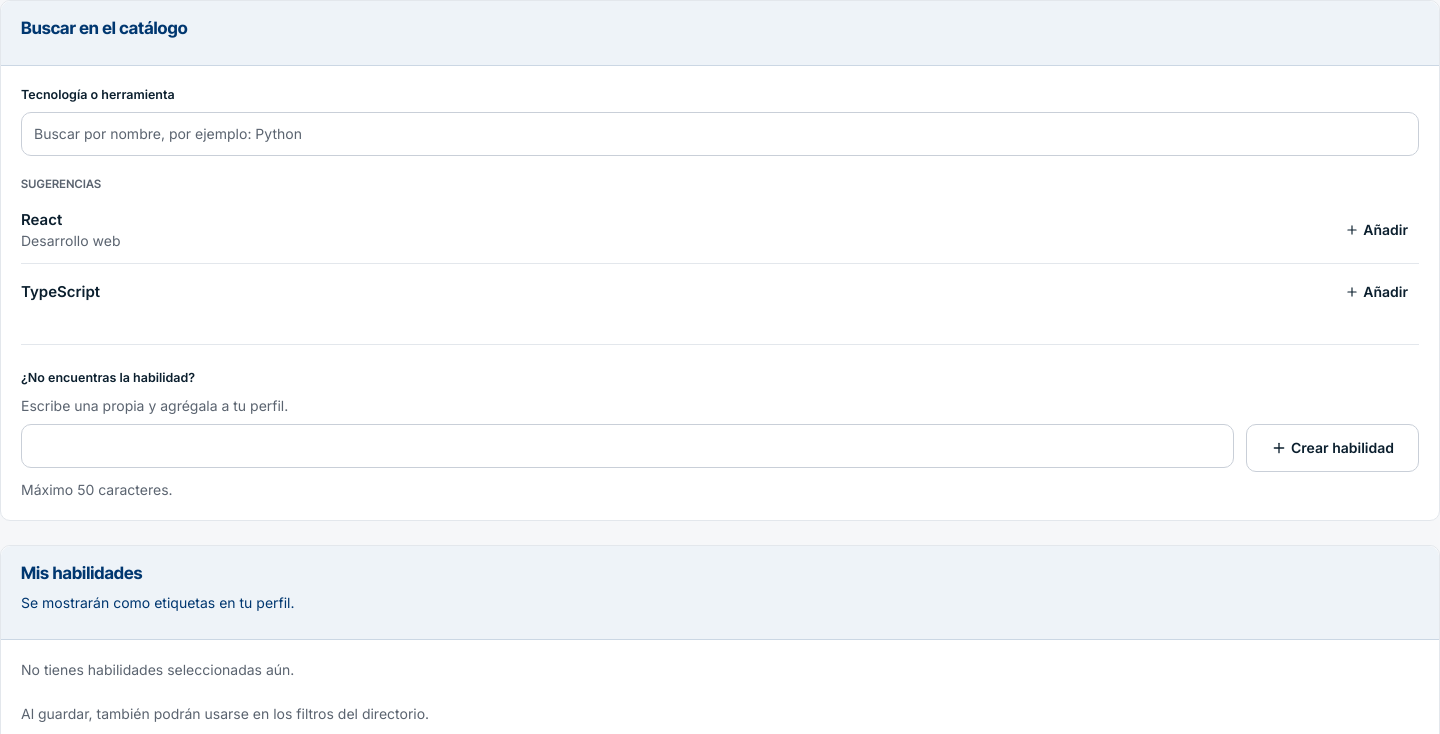
Test: SkillsSelector › does not create a custom skill that already exists in the catalog
Type "react" into the field labelled "¿No encuentras la habilidad?". click: (628, 446)
box: [21,424,1234,468]
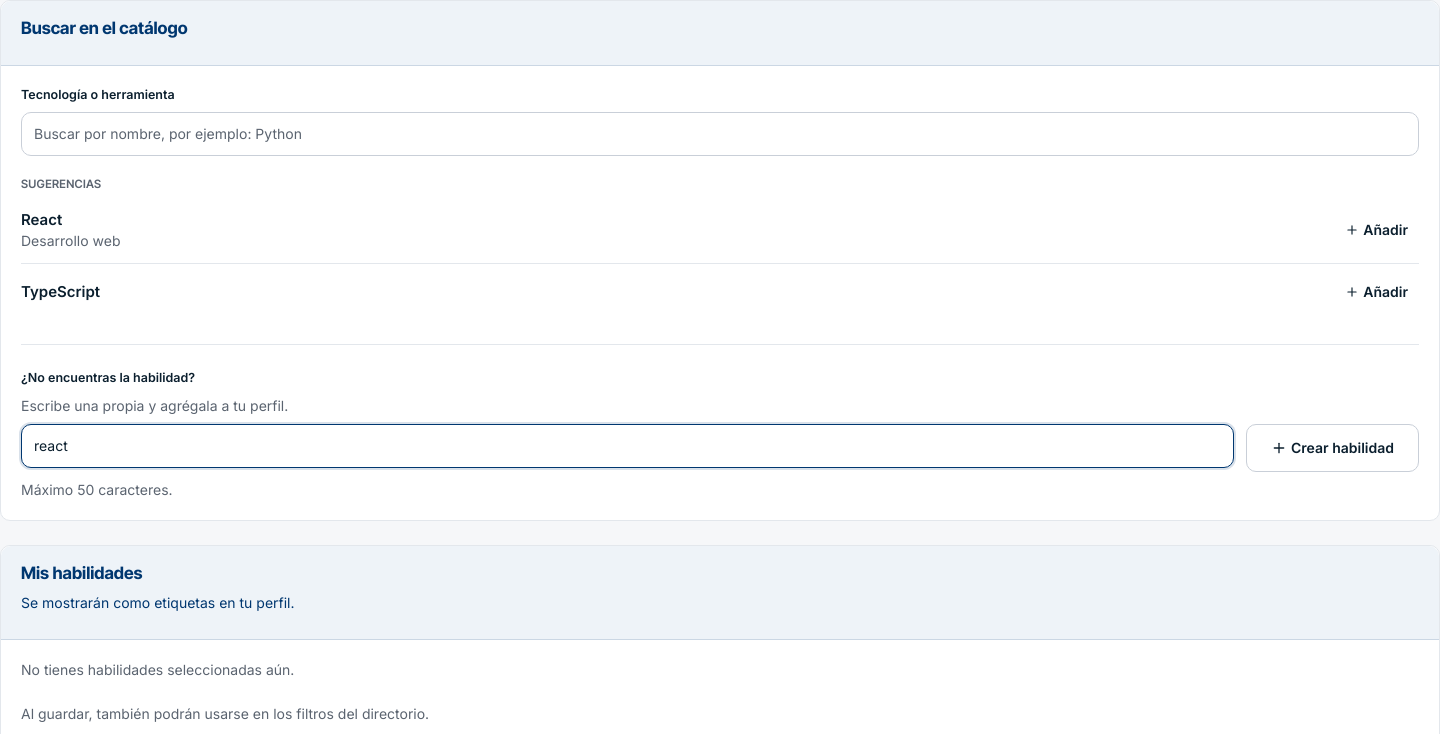
Click the button "Crear habilidad". click: (1332, 448)
box: [1246,424,1419,472]
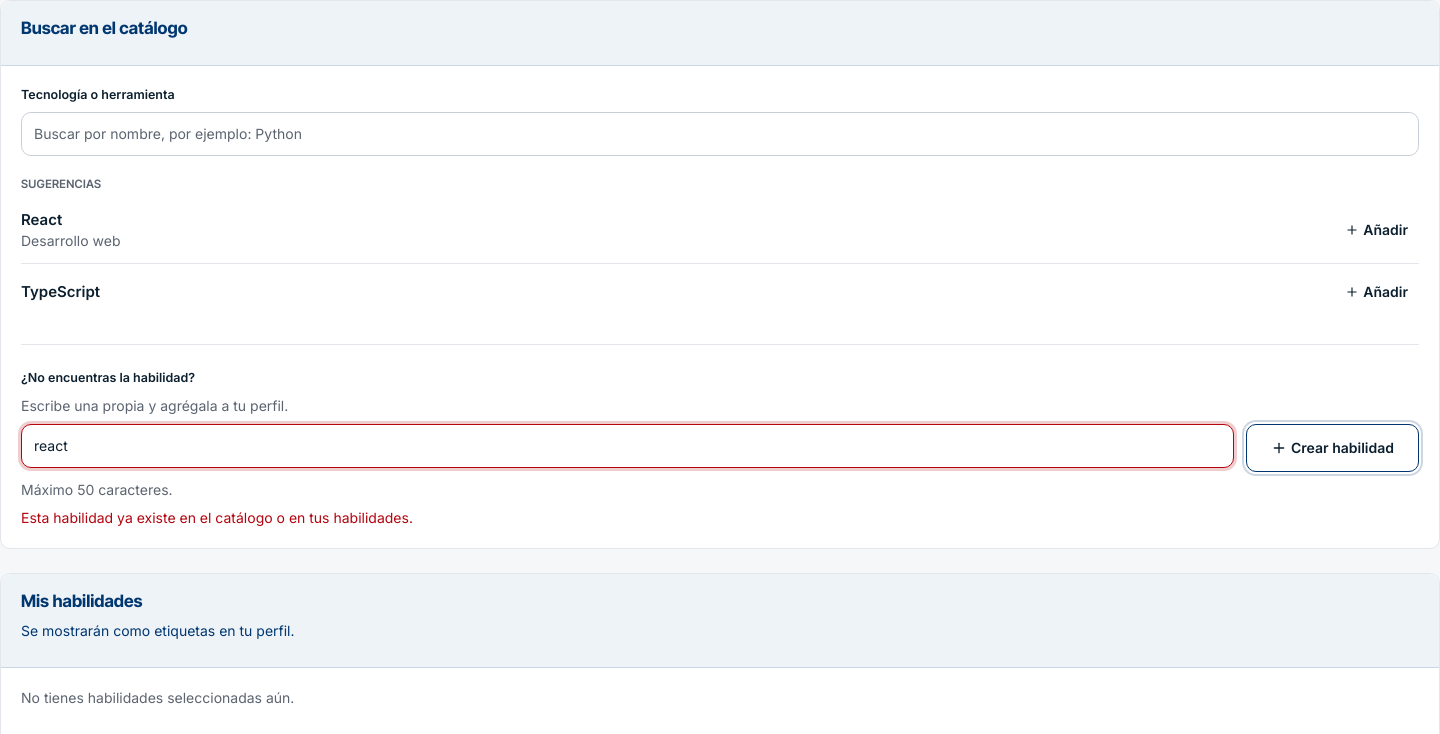
Expected: the text "Esta habilidad ya existe en el catálogo o en tus habilidades." is shown, [21,509,413,526]
